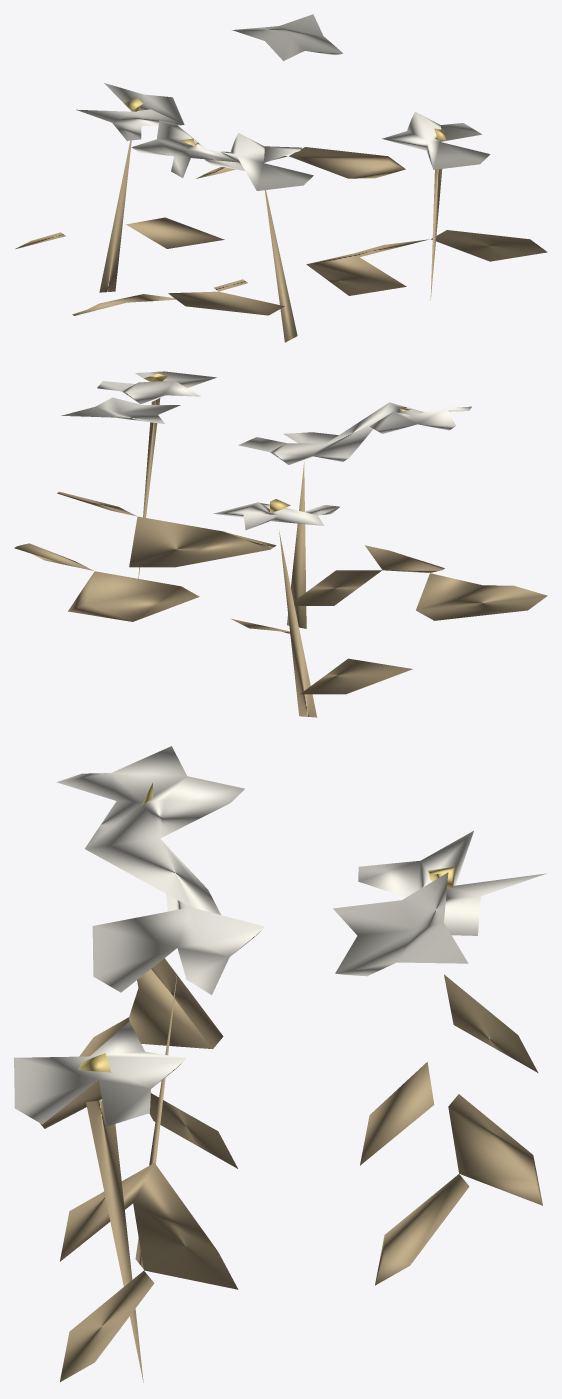
Rendered from flower_2_autumn_low.glb.
3 renders of one model, top to bottom at view 1: azimuth 30°, elevation 25°; view 2: azimuth 150°, elevation 25°; view 3: azimuth 270°, elevation 25°, orthographic. The views are drawn at different scales.
Size of the model in its own units: 0.6121 by 0.3072 by 0.3559.
